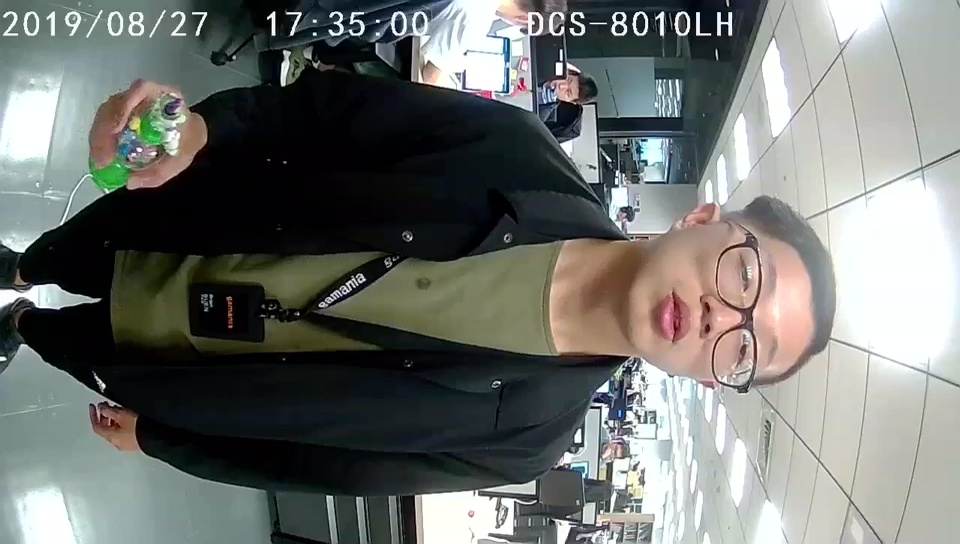buzz: (87, 89, 187, 188)
